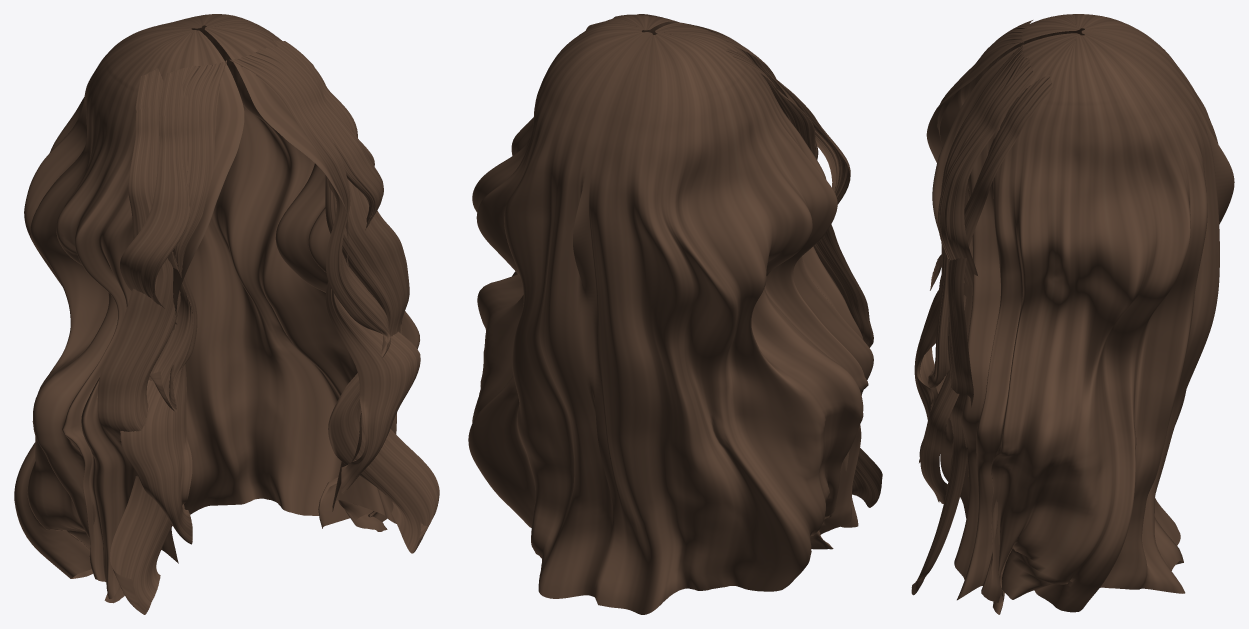
File: LANPASU_Hair_2A_Long_Beach_Waves_v004.glb
The picture shows the model from 3 angles, left to right: view 1: azimuth 30°, elevation 25°; view 2: azimuth 150°, elevation 25°; view 3: azimuth 270°, elevation 25°; orthographic projection.
Parts seen in each view (by area): view 1: Hair_2A_Long_Beach_Waves; view 2: Hair_2A_Long_Beach_Waves; view 3: Hair_2A_Long_Beach_Waves.
Part boxes in pixels (x1,y1,x2,y2): Hair_2A_Long_Beach_Waves: [14, 14, 439, 614]; Hair_2A_Long_Beach_Waves: [468, 14, 882, 614]; Hair_2A_Long_Beach_Waves: [911, 14, 1234, 614].
Size of the model in its own units: 0.4877 by 0.6652 by 0.3621.
